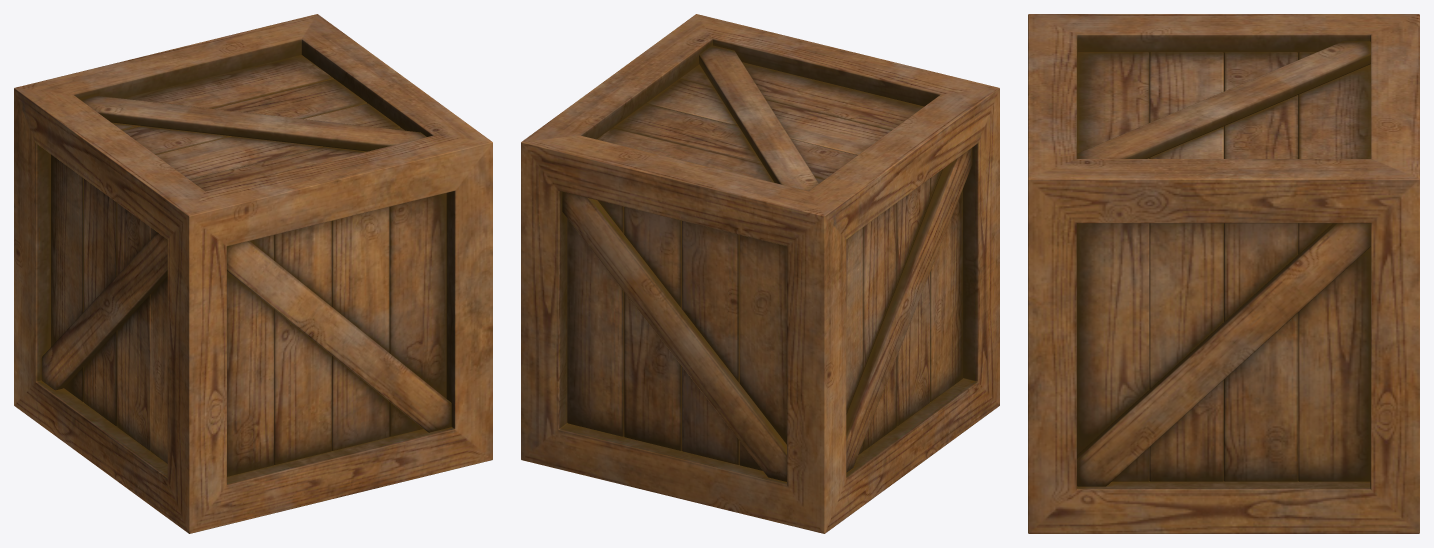
3 views of the same model, side by side, from view 1: azimuth 30°, elevation 25°; view 2: azimuth 150°, elevation 25°; view 3: azimuth 270°, elevation 25° (orthographic). The views are drawn at different scales.
Parts seen in each view (by area): view 1: Cube; view 2: Cube; view 3: Cube.
Boxes of the visible parts, bbox=[...] form: Cube: bbox=[14, 14, 492, 533]; Cube: bbox=[521, 14, 999, 533]; Cube: bbox=[1028, 14, 1419, 533].
Size of the model in its own units: 54.14 by 54.14 by 54.14.
Materials: 1 (1 with a texture image).
